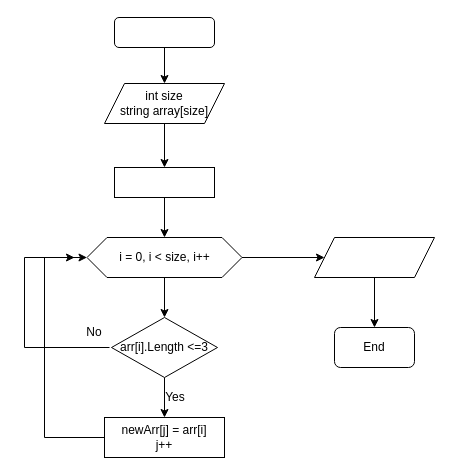
This 452x475 diagram has some shape labels left out. Each missing label, with the box of its shape:
int j = 0: (114, 166, 214, 198)
newArr: (314, 236, 434, 278)
Start: (114, 16, 214, 48)
